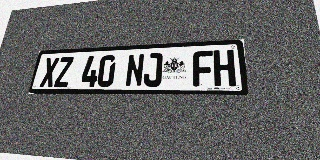0: (96, 55, 116, 87)
4: (80, 56, 100, 87)
F: (193, 50, 214, 87)
H: (213, 49, 236, 86)
J: (143, 53, 163, 87)
N: (125, 54, 145, 87)
X: (39, 57, 59, 87)
Z: (54, 57, 74, 87)
